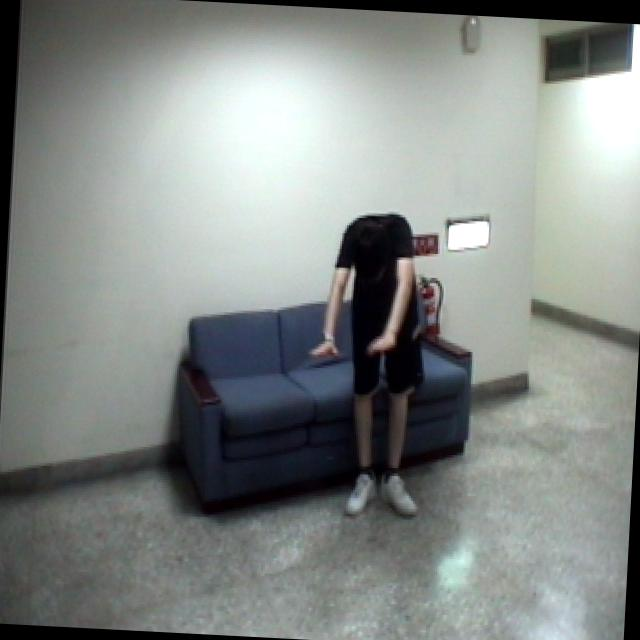bend: (304, 202, 450, 540)
